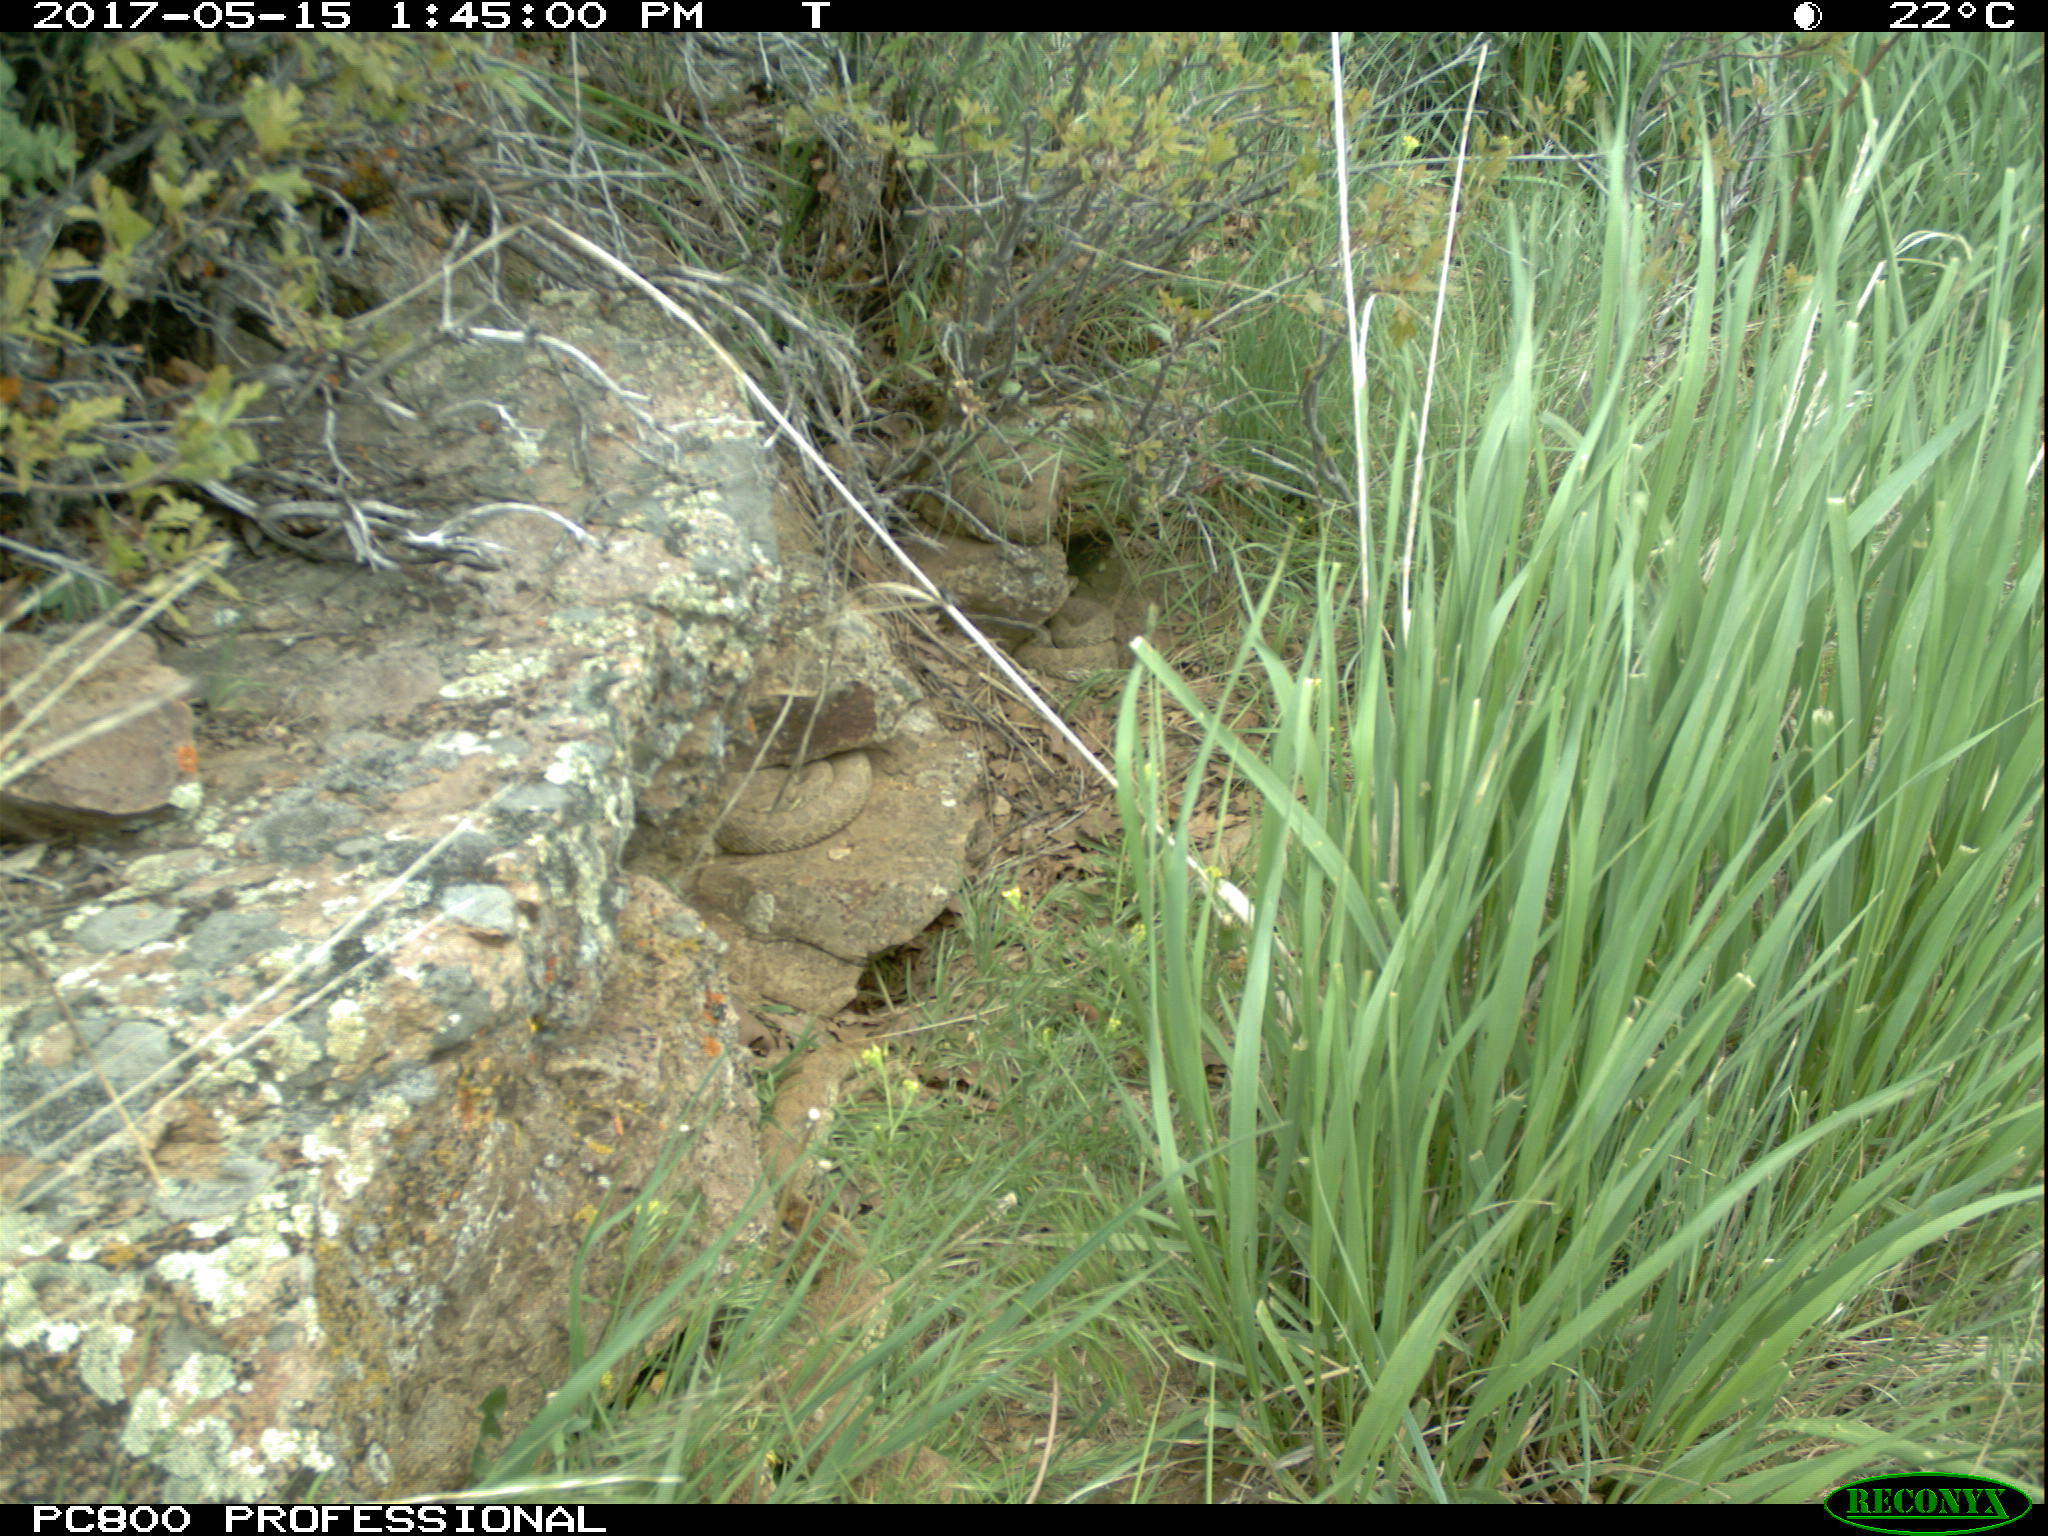snake: (761, 1042, 877, 1434), (706, 744, 872, 858), (921, 444, 1064, 544), (1018, 594, 1121, 692)
